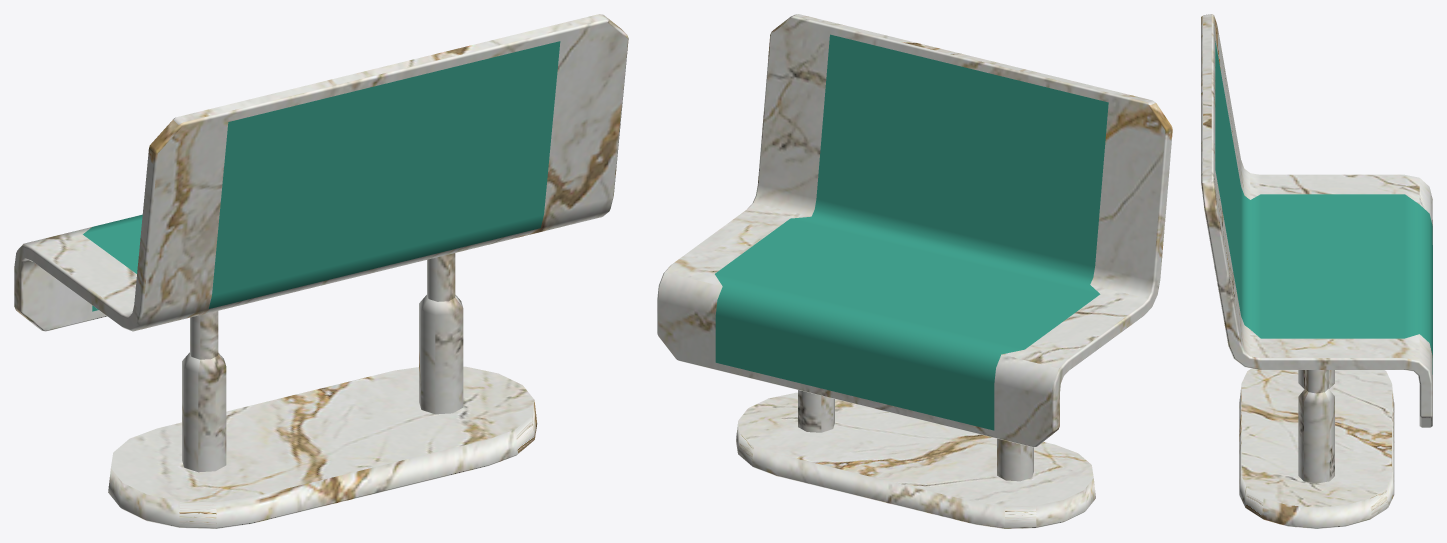
Rendered from FUR0310012.fbx.
3 views of the same model, side by side, from view 1: azimuth 30°, elevation 25°; view 2: azimuth 150°, elevation 25°; view 3: azimuth 270°, elevation 25° (orthographic). The views are drawn at different scales.
Parts seen in each view (by area): view 1: smFUR0310012; view 2: smFUR0310012; view 3: smFUR0310012.
Boxes of the visible parts, x1=… form: smFUR0310012: x1=14, y1=14, x2=628, y2=528; smFUR0310012: x1=657, y1=14, x2=1172, y2=528; smFUR0310012: x1=1201, y1=14, x2=1432, y2=528.
Bounding box in the file's own units: 140 × 125 × 74.07.
1 material, 1 textured.
